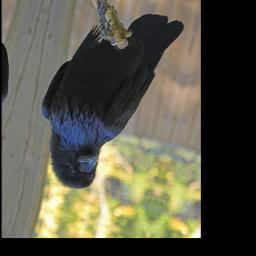Crow: (25, 0, 186, 209)
